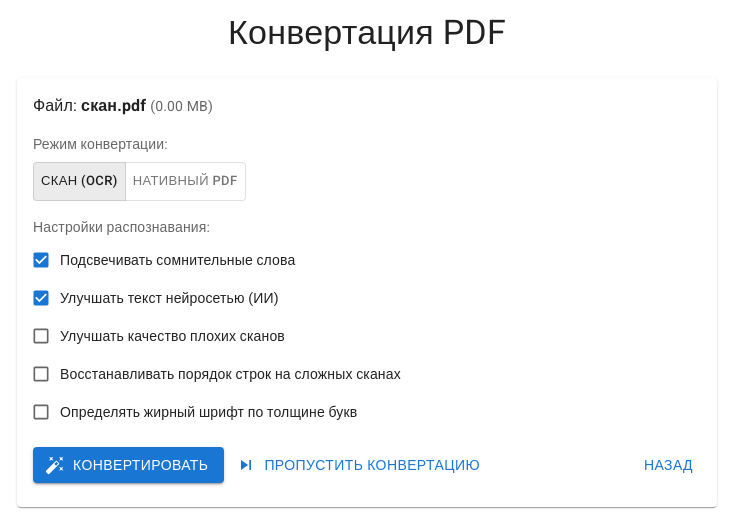
Test: ConvertScreen › warning из статуса задачи тоже доходит
Click the button "Конвертировать": point(129, 465) [33,447,224,483]
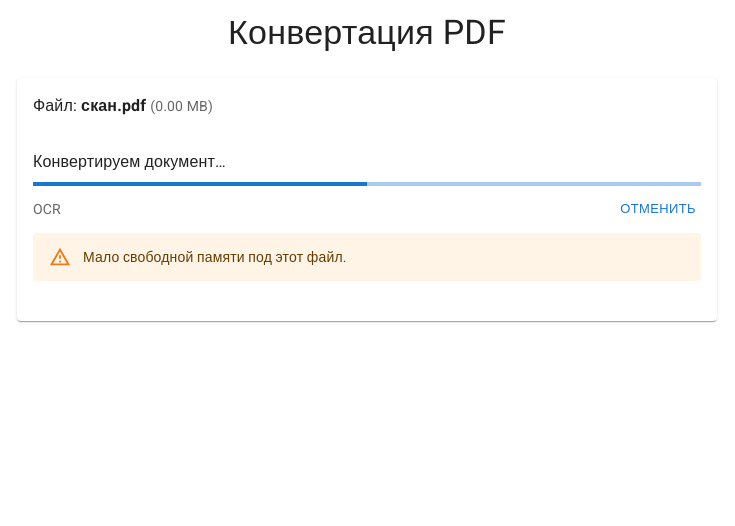
Expected: the text "Мало свободной памяти под этот файл." is shown, [83,249,347,265]
